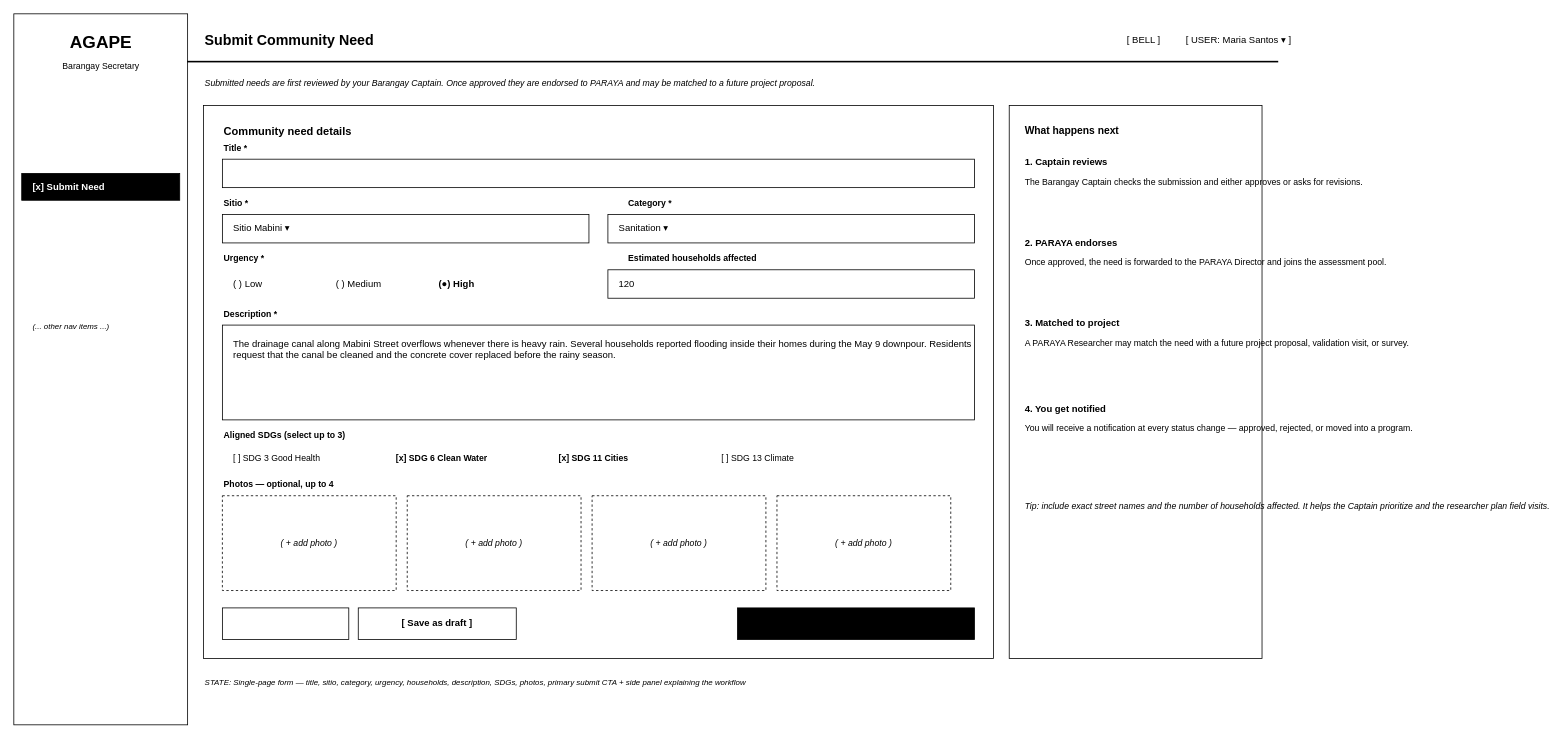
The diagram is 1564 pixels wide and 739 high, and some of its shapes have lost their labels. Each missing label, with the box of its shape:
[ Cancel ]: (222, 607, 349, 640)
[ Submit to Captain for approval ]: (737, 607, 974, 640)
Drainage repair near Sitio Mabini: (222, 158, 974, 188)
